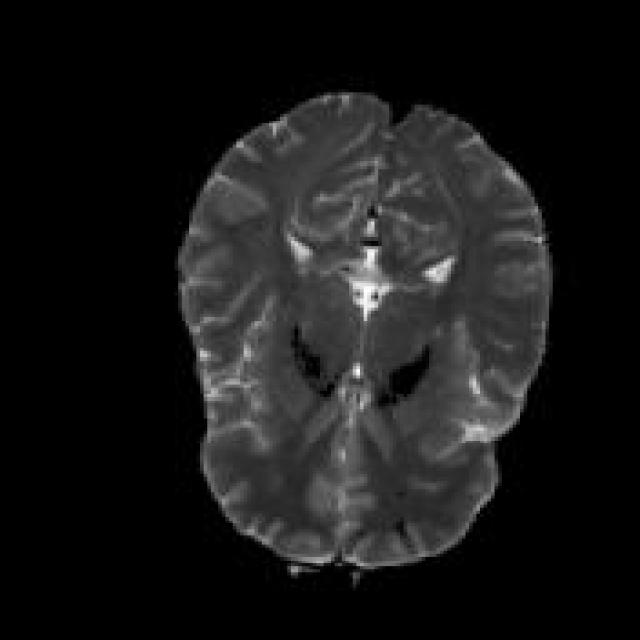CONTROL: (175, 90, 552, 576)
